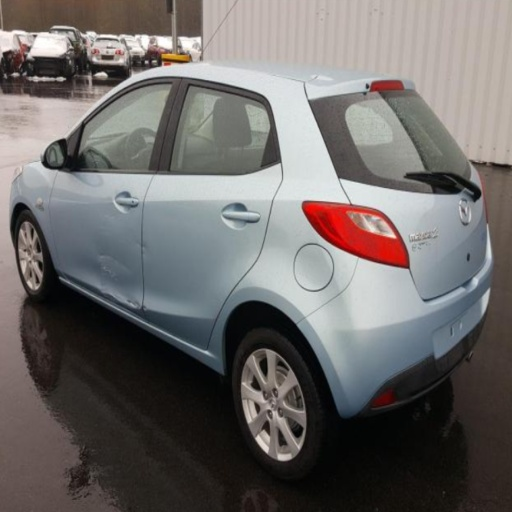dent: (95, 205, 138, 252), (95, 252, 131, 288), (135, 240, 151, 264), (126, 299, 145, 312), (103, 293, 123, 303)
rust: (97, 288, 151, 320), (97, 265, 117, 287)
